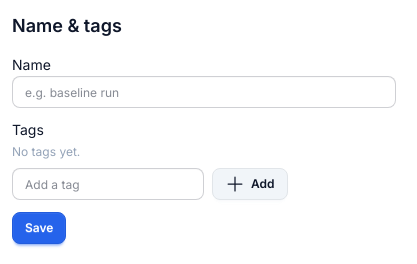
Test case: JobMetadataEditor › saves the name and the tags
Type "run" into the field labelled "Name" at {"x": 204, "y": 92}, box [12, 76, 396, 108]
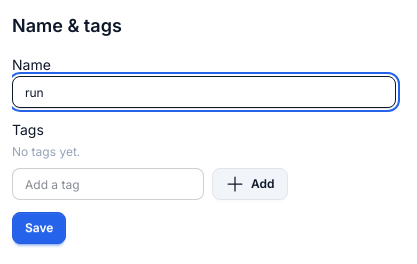
Click the button "Save" at {"x": 39, "y": 228}, box [12, 212, 66, 244]
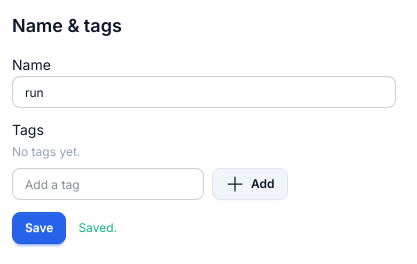
Check: the text "Saved." is shown, box [78, 220, 117, 236]
